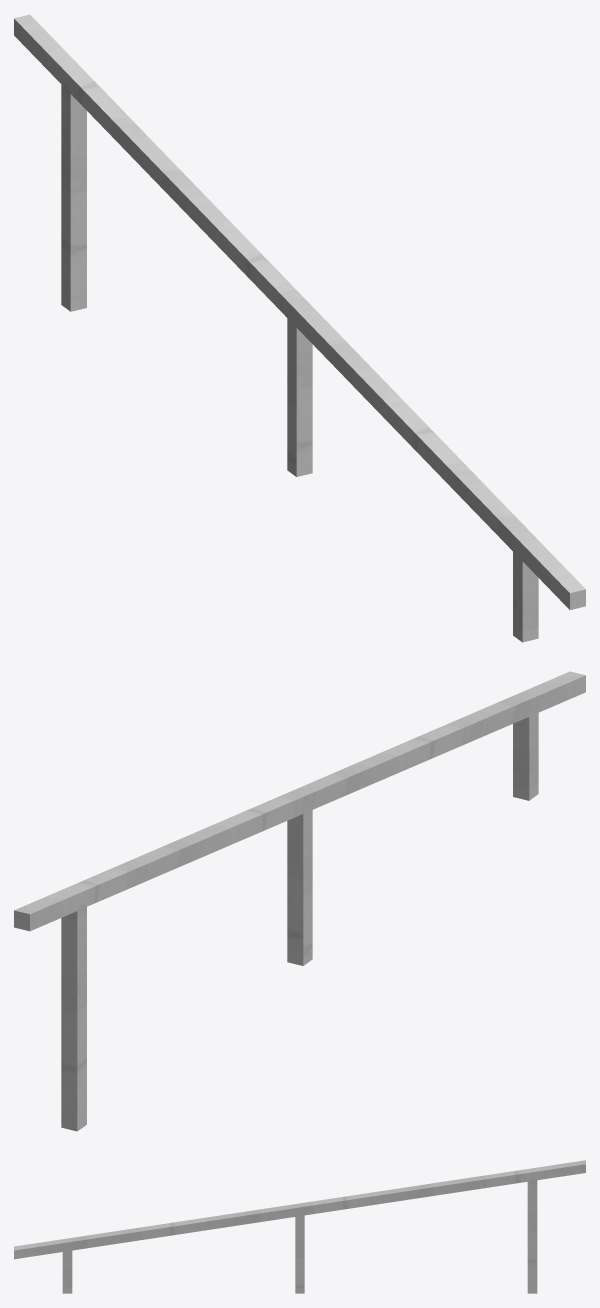
File: Flat Rail Sloped Low.glb
3 renders of one model, top to bottom at view 1: azimuth 30°, elevation 25°; view 2: azimuth 150°, elevation 25°; view 3: azimuth 270°, elevation 25°, orthographic. The views are drawn at different scales.
Parts seen in each view (by area): view 1: RS_LOD0_SECTION0_CP_Rail_M_RSMAT_0, RS_LOD0_SECTION0_CP_Rail_M_RSMAT_1; view 2: RS_LOD0_SECTION0_CP_Rail_M_RSMAT_0, RS_LOD0_SECTION0_CP_Rail_M_RSMAT_1; view 3: RS_LOD0_SECTION0_CP_Rail_M_RSMAT_0, RS_LOD0_SECTION0_CP_Rail_M_RSMAT_1.
Boxes of the visible parts, left/top/right/bottom form: RS_LOD0_SECTION0_CP_Rail_M_RSMAT_0: left=14, top=14, right=585, bottom=609; RS_LOD0_SECTION0_CP_Rail_M_RSMAT_1: left=61, top=83, right=538, bottom=642; RS_LOD0_SECTION0_CP_Rail_M_RSMAT_0: left=14, top=671, right=585, bottom=931; RS_LOD0_SECTION0_CP_Rail_M_RSMAT_1: left=61, top=709, right=538, bottom=1131; RS_LOD0_SECTION0_CP_Rail_M_RSMAT_0: left=14, top=1160, right=585, bottom=1259; RS_LOD0_SECTION0_CP_Rail_M_RSMAT_1: left=62, top=1178, right=537, bottom=1293.
Size of the model in its own units: 0.1 by 1.5 by 6.
Materials: 3 (2 with a texture image).
